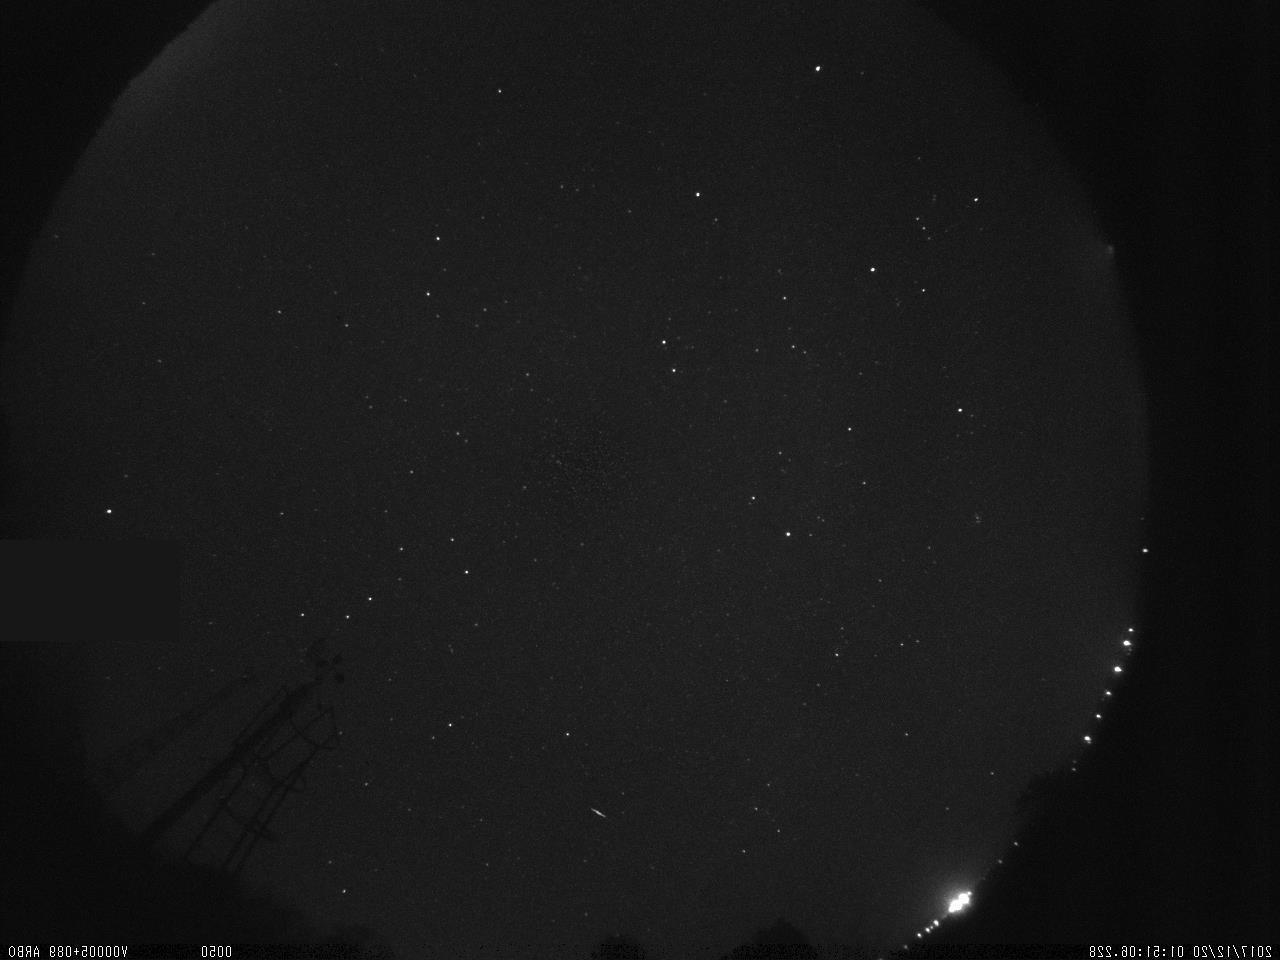meteor: (582, 800, 611, 828)
